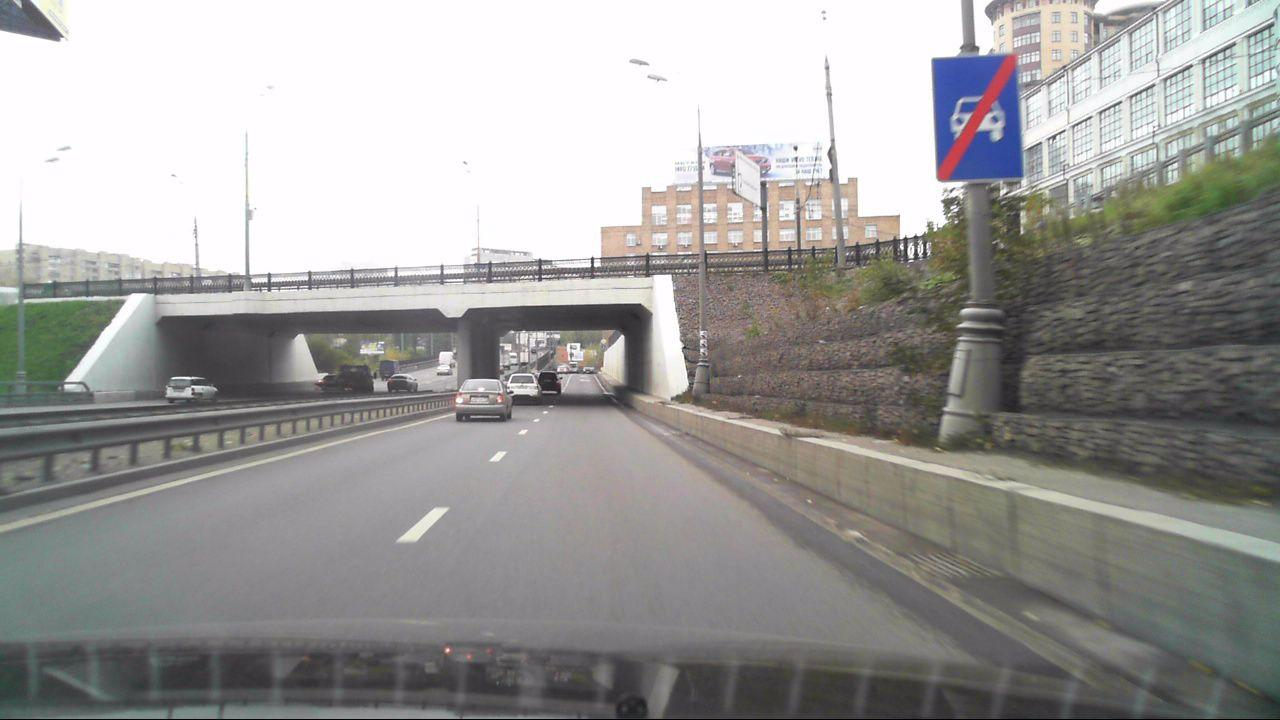5_4: (933, 55, 1020, 180)
